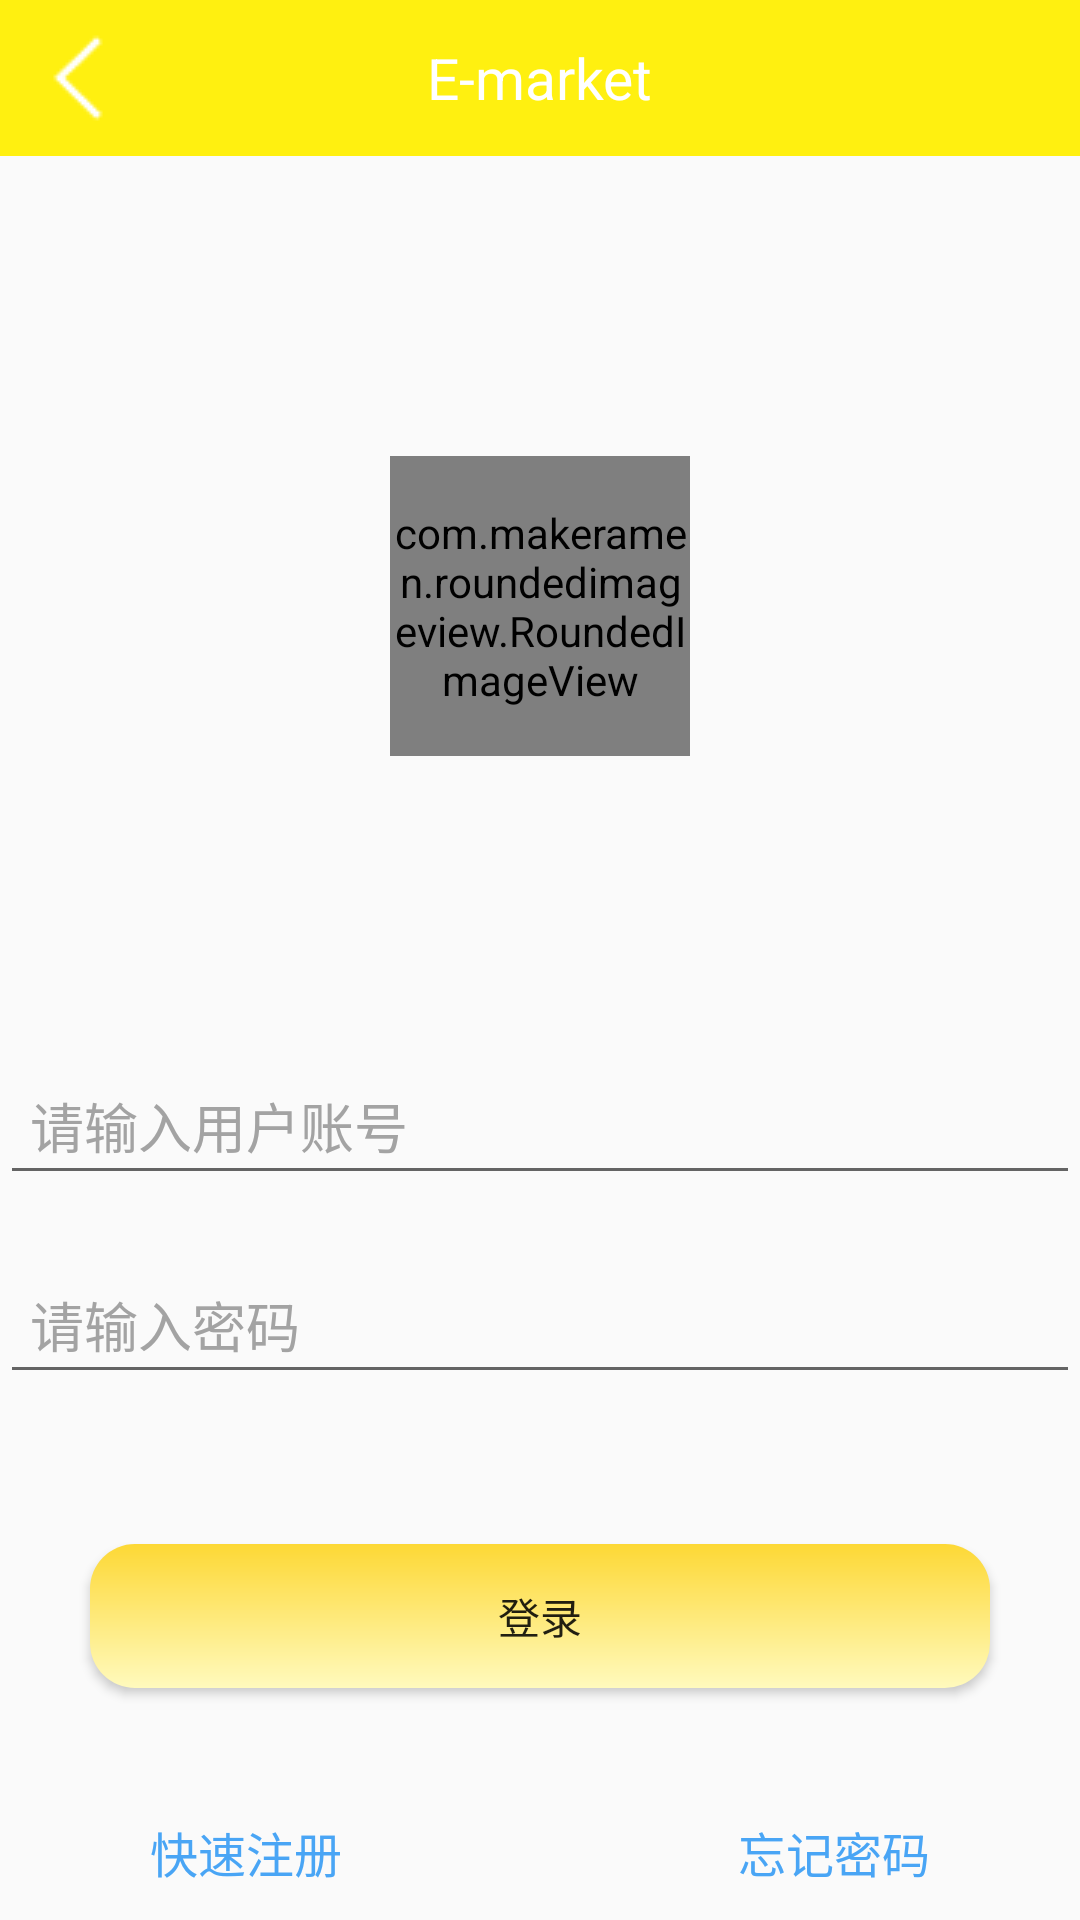

Screen size 1080*1920. Icon name, then its center in pixels as point (x, y):
left arrow: point (78, 78)
